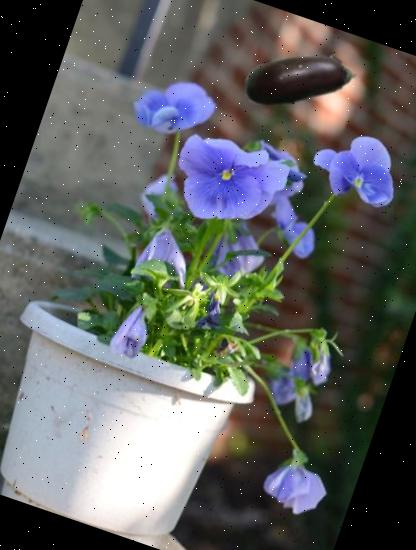Eggplant: (226, 5, 374, 152)
